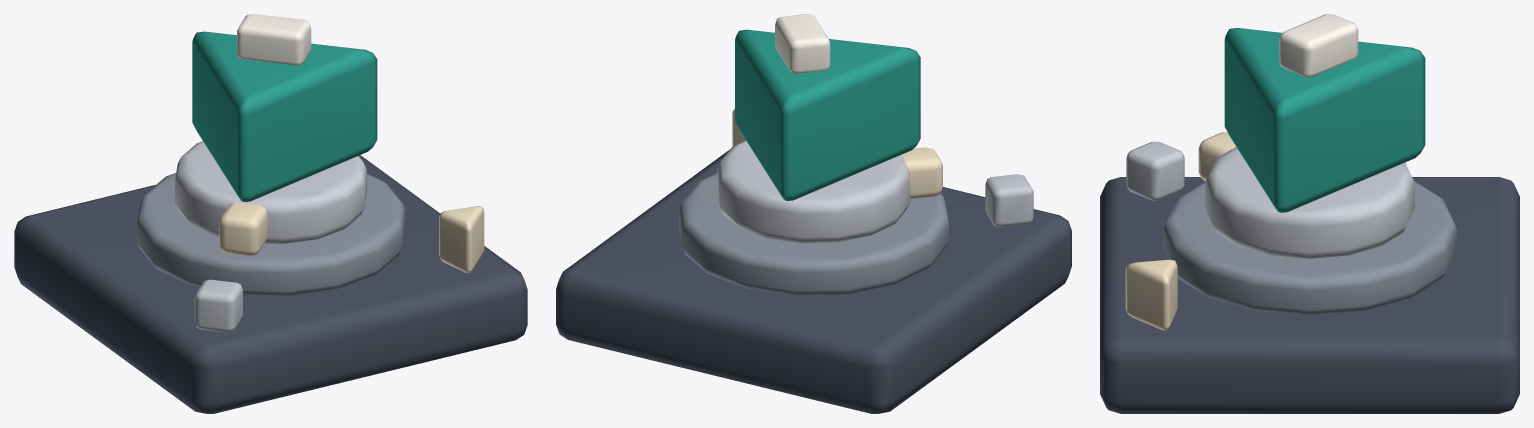
The model's file is Ctrl_Instr_Spectrometer.glb.
The picture shows the model from 3 angles, left to right: view 1: azimuth 30°, elevation 25°; view 2: azimuth 150°, elevation 25°; view 3: azimuth 270°, elevation 25°; orthographic projection. The views are drawn at different scales.
Visible parts, largest first — view 1: Ctrl_Instr_Spectrometer.Base, Ctrl_Instr_Spectrometer.Move_Knob, Ctrl_Instr_Spectrometer.Dial, Ctrl_Instr_Spectrometer.Marks; view 2: Ctrl_Instr_Spectrometer.Base, Ctrl_Instr_Spectrometer.Move_Knob, Ctrl_Instr_Spectrometer.Dial, Ctrl_Instr_Spectrometer.Marks; view 3: Ctrl_Instr_Spectrometer.Base, Ctrl_Instr_Spectrometer.Move_Knob, Ctrl_Instr_Spectrometer.Dial, Ctrl_Instr_Spectrometer.Marks.
Boxes of the visible parts, x1,y1,x2,y2 form: Ctrl_Instr_Spectrometer.Base: (14, 155, 527, 413); Ctrl_Instr_Spectrometer.Move_Knob: (175, 14, 377, 255); Ctrl_Instr_Spectrometer.Dial: (136, 173, 405, 296); Ctrl_Instr_Spectrometer.Marks: (194, 206, 484, 332); Ctrl_Instr_Spectrometer.Base: (556, 149, 1071, 413); Ctrl_Instr_Spectrometer.Move_Knob: (717, 14, 942, 243); Ctrl_Instr_Spectrometer.Dial: (679, 172, 948, 295); Ctrl_Instr_Spectrometer.Marks: (732, 109, 1033, 227); Ctrl_Instr_Spectrometer.Base: (1100, 177, 1519, 413); Ctrl_Instr_Spectrometer.Move_Knob: (1198, 14, 1425, 258); Ctrl_Instr_Spectrometer.Dial: (1163, 181, 1456, 315); Ctrl_Instr_Spectrometer.Marks: (1125, 141, 1184, 330).
Bounding box in the file's own units: 0.2 × 0.163 × 0.2.
1 material, 1 textured.
